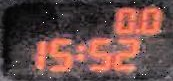-: (133, 27, 139, 32)
0: (140, 7, 159, 32), (115, 8, 134, 32)
1: (35, 40, 45, 69)
2: (112, 38, 137, 69)
5: (48, 38, 70, 70), (88, 38, 110, 69)
X: (75, 44, 84, 60)
